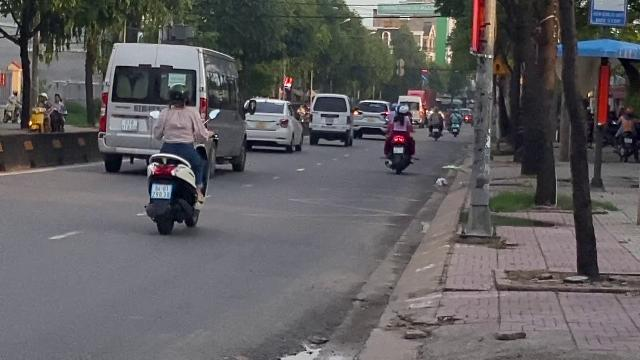helmet: (165, 82, 189, 106)
licenseplate: (150, 184, 172, 198)
motorcyclist: (140, 82, 210, 234)
